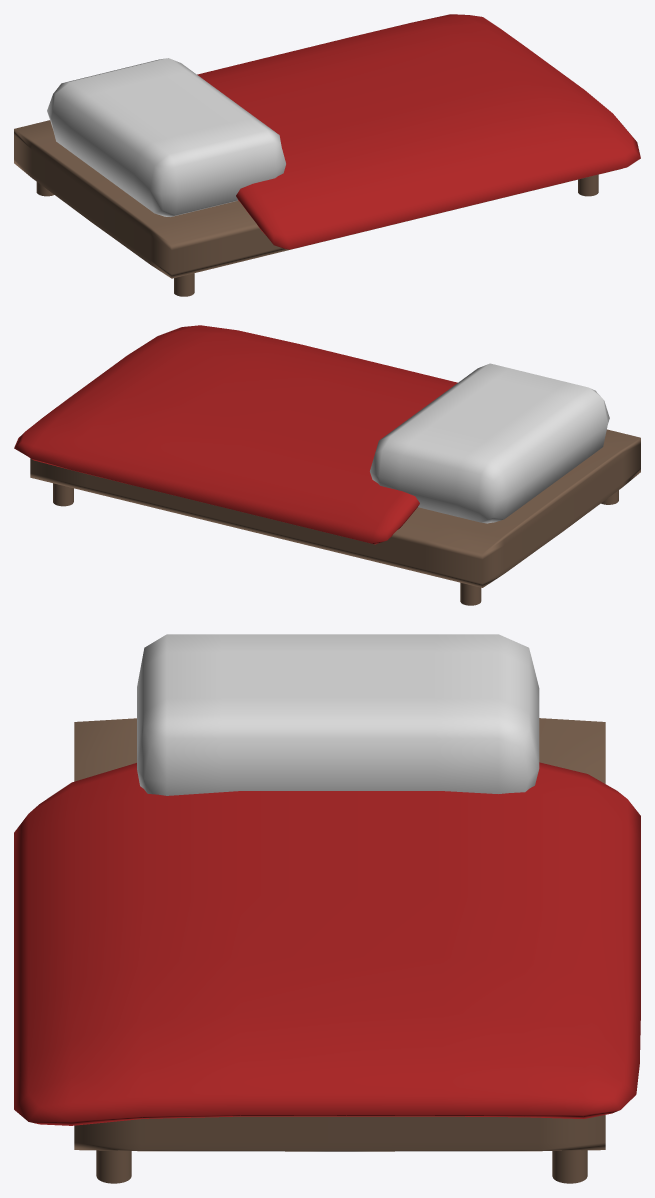
File: MinecraftBed.fbx
3 views of the same model, one above another, from view 1: azimuth 30°, elevation 25°; view 2: azimuth 150°, elevation 25°; view 3: azimuth 270°, elevation 25° (orthographic). The views are drawn at different scales.
Parts seen in each view (by area): view 1: pCube5; view 2: pCube5; view 3: pCube5.
Part boxes in pixels (bbox=[...]): pCube5: bbox=[14, 14, 640, 296]; pCube5: bbox=[14, 325, 640, 605]; pCube5: bbox=[14, 634, 640, 1183].
Bounding box in the file's own units: 17.31 × 4.38 × 11.84.
